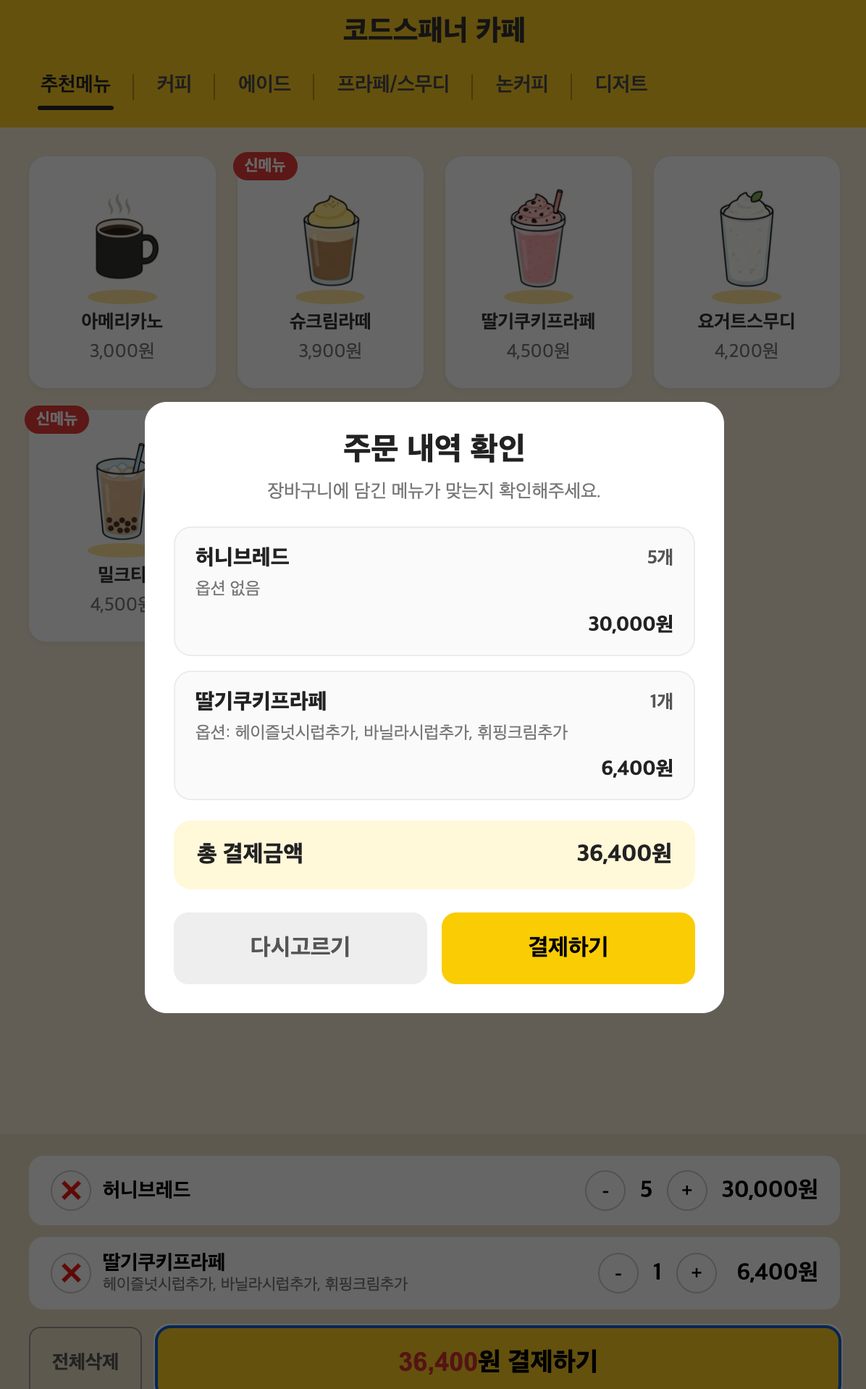action_button: (174, 912, 427, 984), (441, 913, 695, 984)
popup_modal: (145, 403, 725, 1015)
